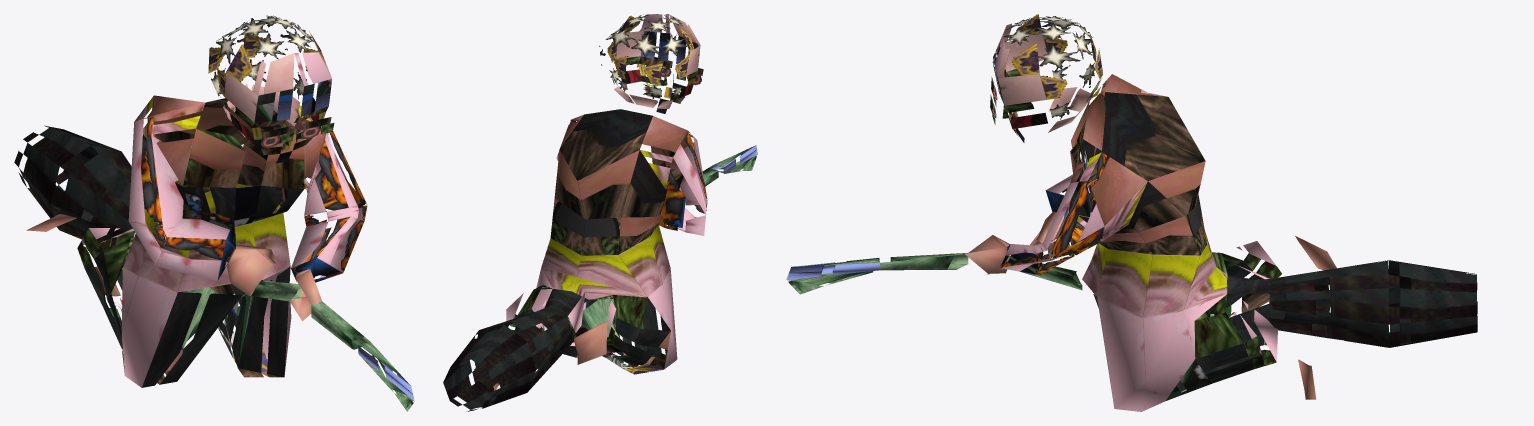
3 views of the same model, side by side, from view 1: azimuth 30°, elevation 25°; view 2: azimuth 150°, elevation 25°; view 3: azimuth 270°, elevation 25° (orthographic). The views are drawn at different scales.
Visible parts, largest first — view 1: T1L9M005_7; view 2: T1L9M005_7; view 3: T1L9M005_7.
Boxes of the visible parts, x1,y1,x2,y2 form: T1L9M005_7: (14,15,414,411); T1L9M005_7: (443,14,757,411); T1L9M005_7: (786,14,1477,411).
Bounding box in the file's own units: 0.502 × 0.9384 × 1.67.
